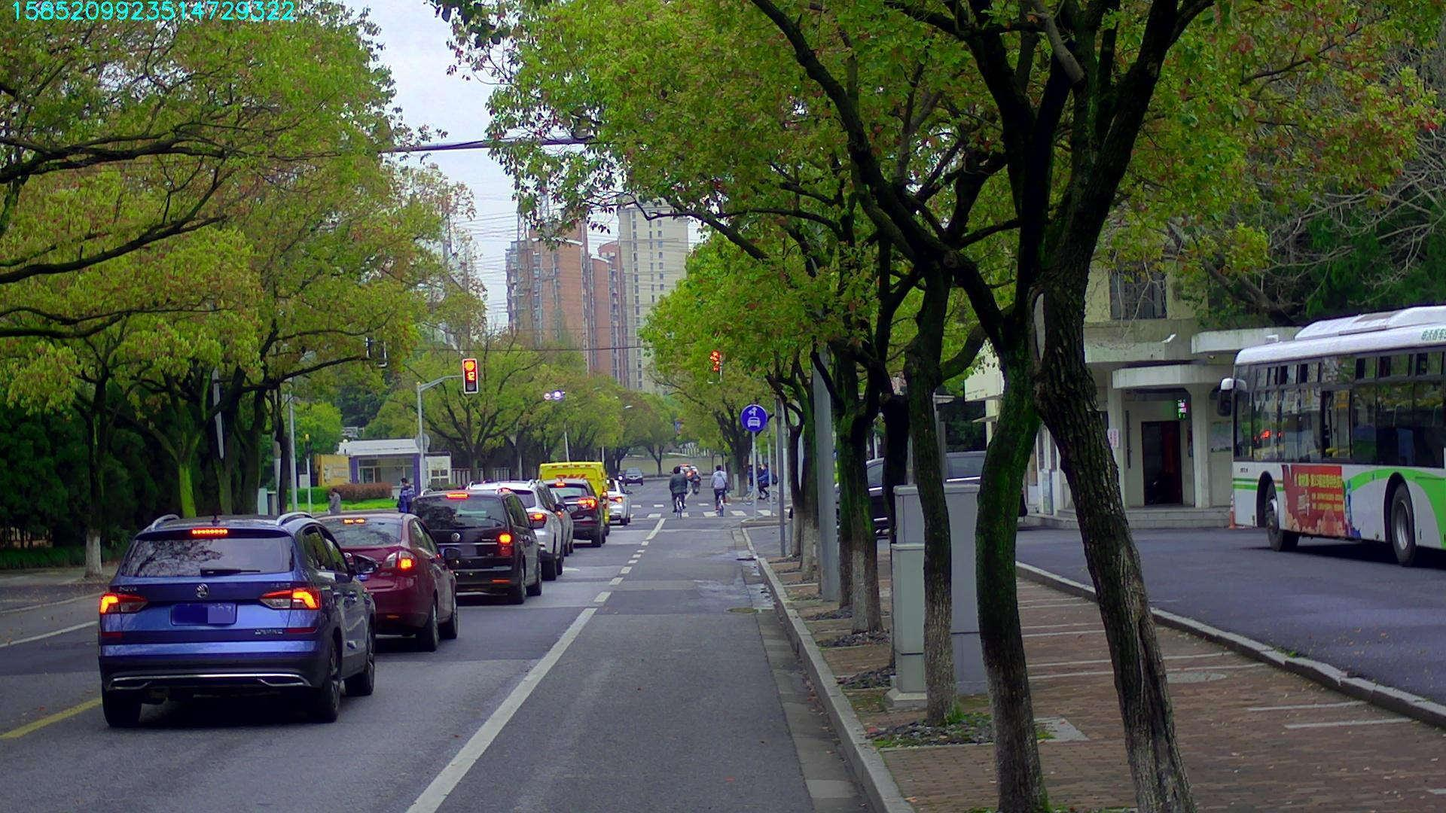red: (463, 358, 476, 391), (707, 350, 720, 380)
